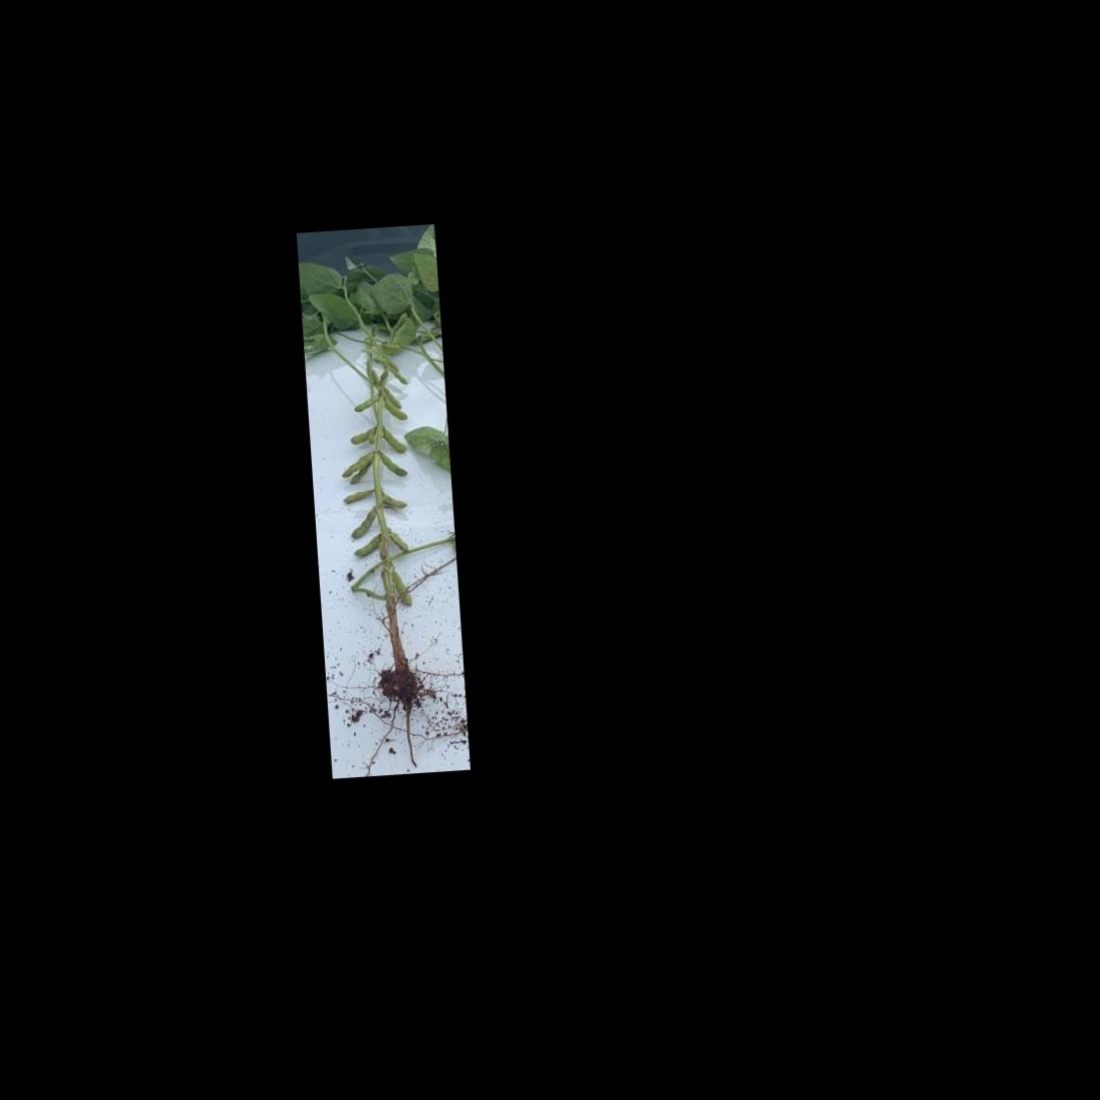pod: (346, 504, 381, 540), (376, 447, 410, 482), (338, 448, 374, 478), (391, 570, 417, 608), (379, 390, 408, 424), (384, 526, 413, 557), (334, 488, 379, 508), (352, 536, 381, 561), (380, 491, 412, 512), (345, 425, 373, 445), (352, 392, 374, 413)
soy: (306, 261, 461, 717)
